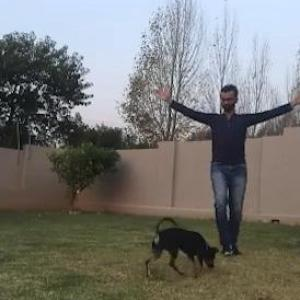takeoff: (151, 72, 299, 267)
